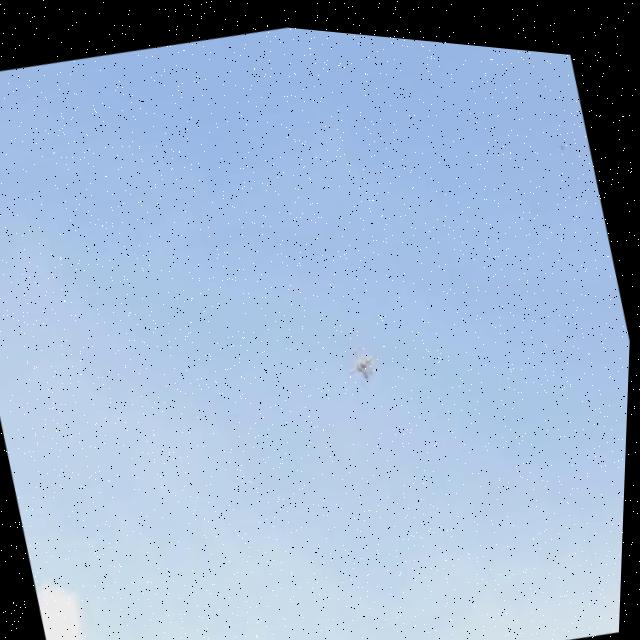drones: (333, 304, 404, 409)
